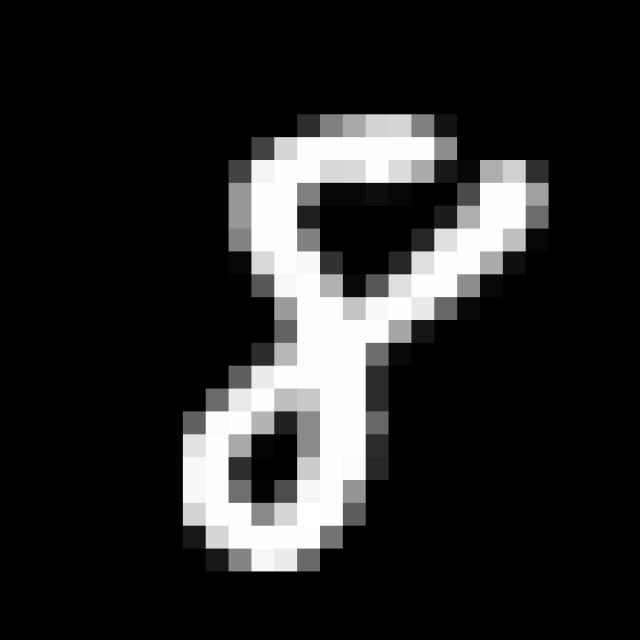eight -8-: (170, 105, 554, 590)
